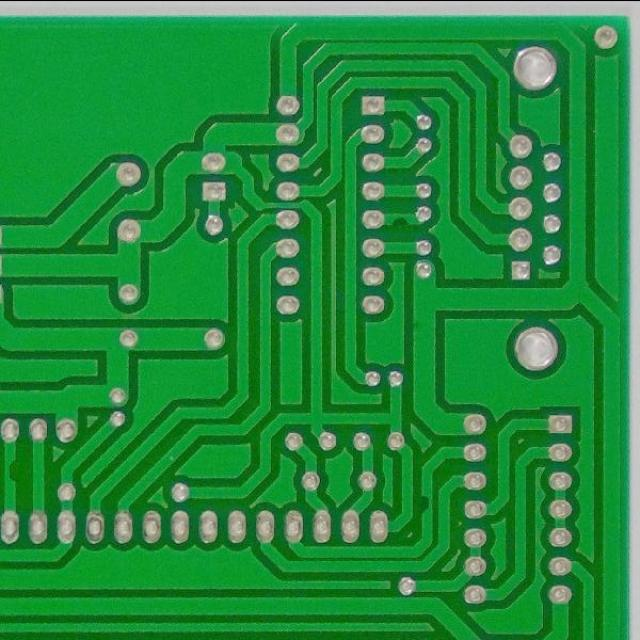MouseBite: (2, 456, 20, 488), (387, 210, 413, 229), (418, 491, 436, 517)
